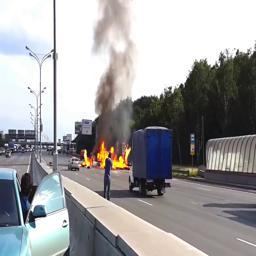fire: (83, 140, 131, 168)
